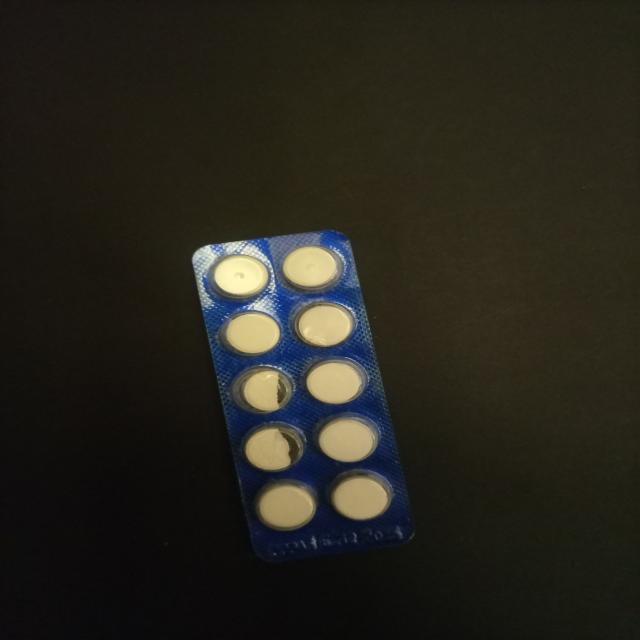defect: (238, 420, 310, 474), (229, 364, 296, 416)
